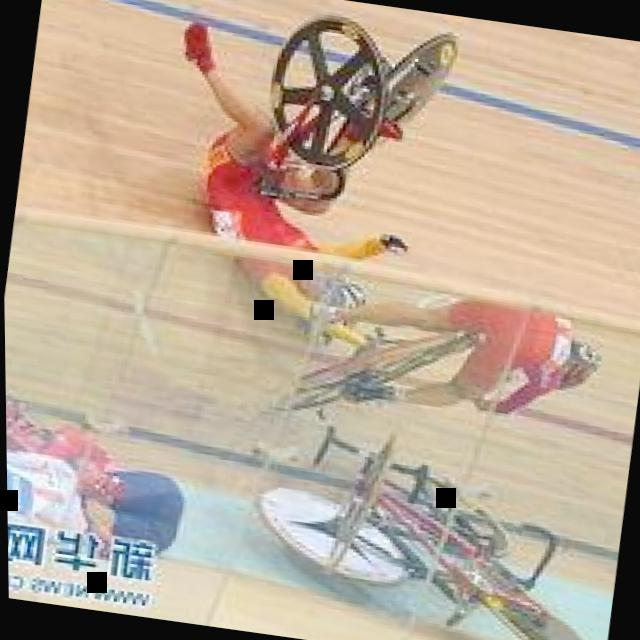Fall-Detected: (130, 4, 478, 356)
